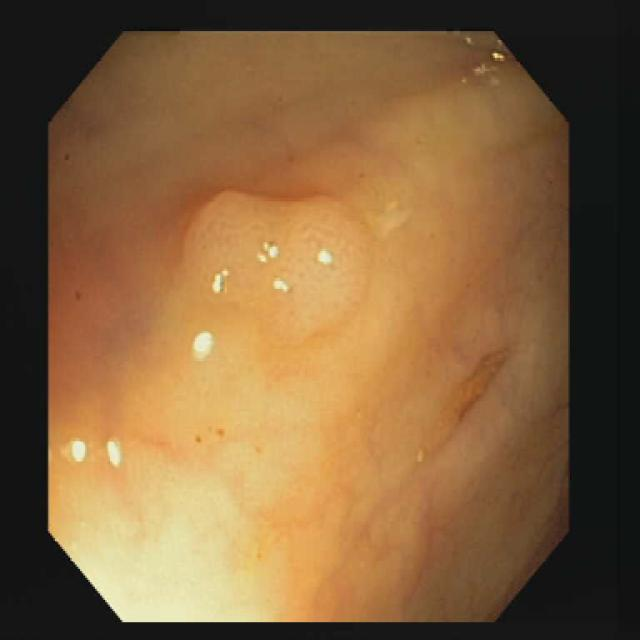tumor: (183, 191, 377, 333)
